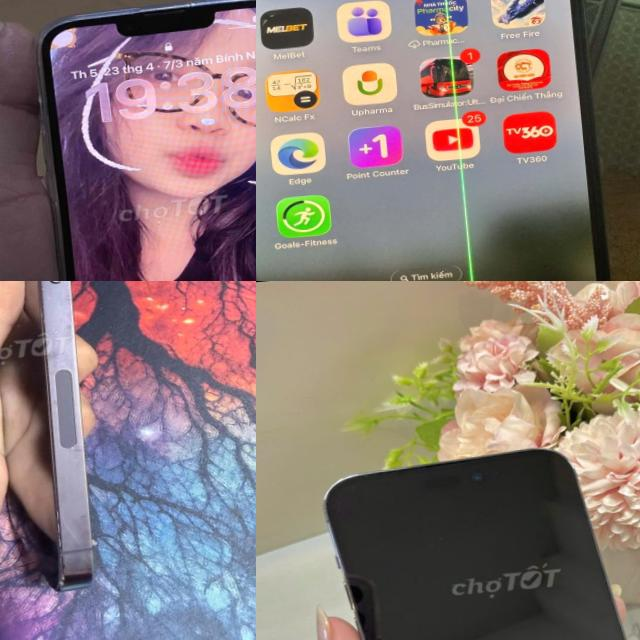gen_12_13: (35, 0, 256, 281)
gen_14: (308, 418, 640, 640), (0, 281, 114, 601)
gen_15: (256, 0, 624, 281)
scratch: (48, 500, 72, 596), (33, 281, 82, 302)
screen_defect: (438, 0, 476, 258), (464, 259, 487, 281)
